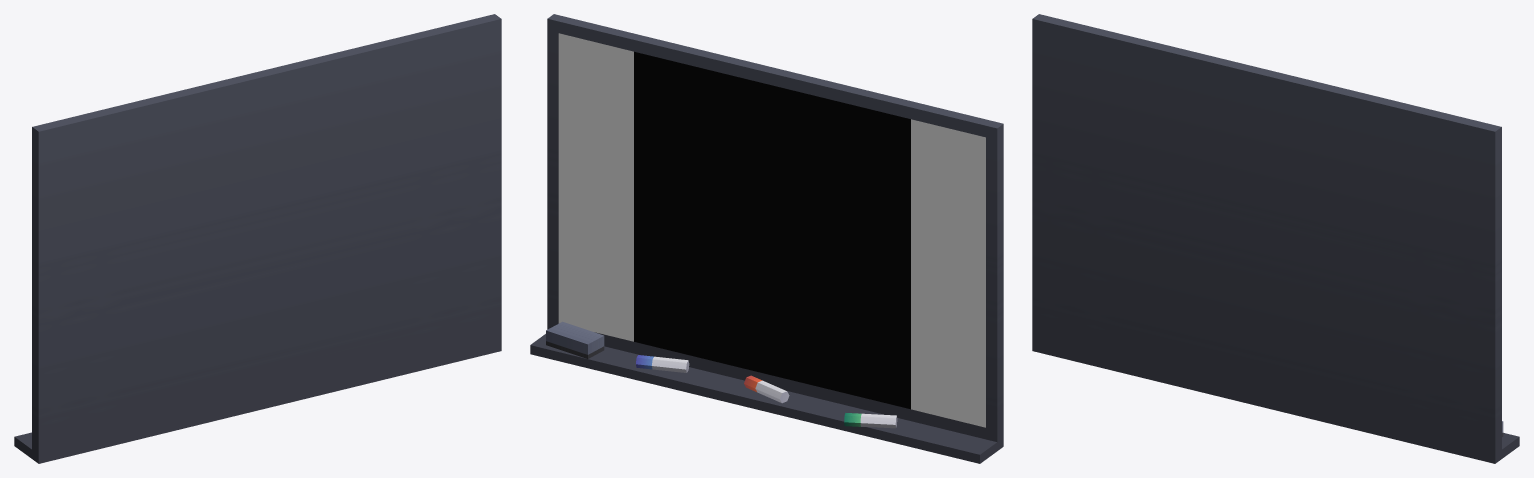
File: whiteboard.fbx
The picture shows the model from 3 angles, left to right: view 1: azimuth 30°, elevation 25°; view 2: azimuth 150°, elevation 25°; view 3: azimuth 330°, elevation 25°; orthographic projection. The views are drawn at different scales.
Parts seen in each view (by area): view 1: whiteboard; view 2: whiteboard; view 3: whiteboard.
Part boxes in pixels (x1,y1,x2,y2): whiteboard: [14, 14, 501, 463]; whiteboard: [530, 14, 1003, 463]; whiteboard: [1032, 14, 1519, 463].
Bounding box in the file's own units: 1.4 × 0.1576 × 0.9603.
